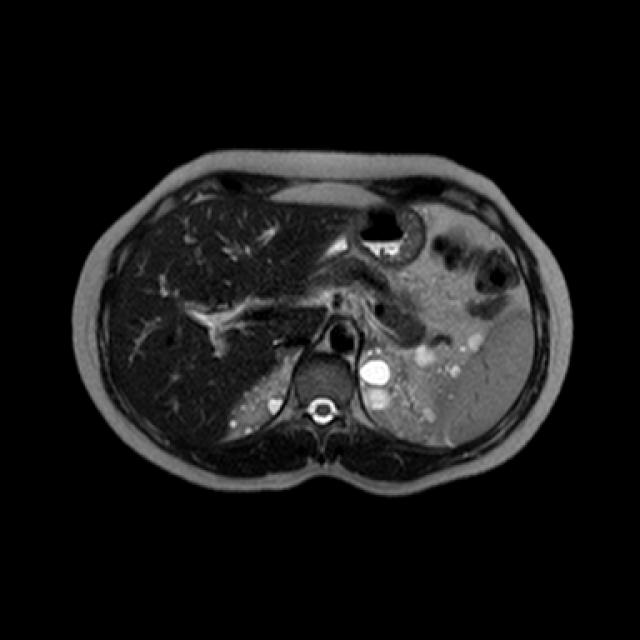sag: (227, 362, 296, 438)
sol: (358, 327, 490, 447)
